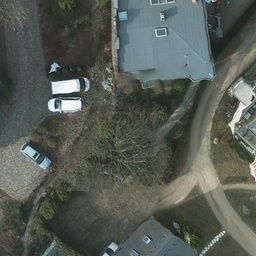car: (50, 74, 90, 96), (19, 142, 51, 169), (47, 96, 83, 113)
